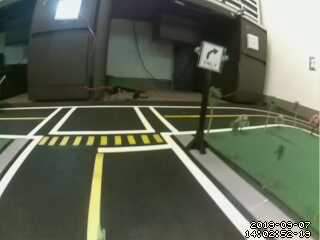Right_only_sign: (199, 37, 223, 73)
